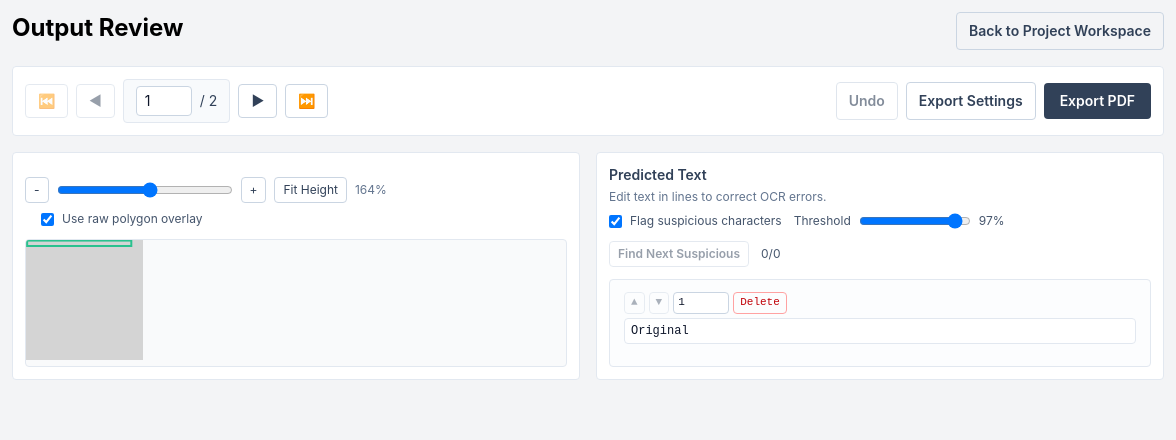
Test: review screen workflows › shows a failed correction save and prevents exporting older text
Replace the text in the text box with "Unsaved draft". click: x=880, y=331
box: [624,318,1136,344]
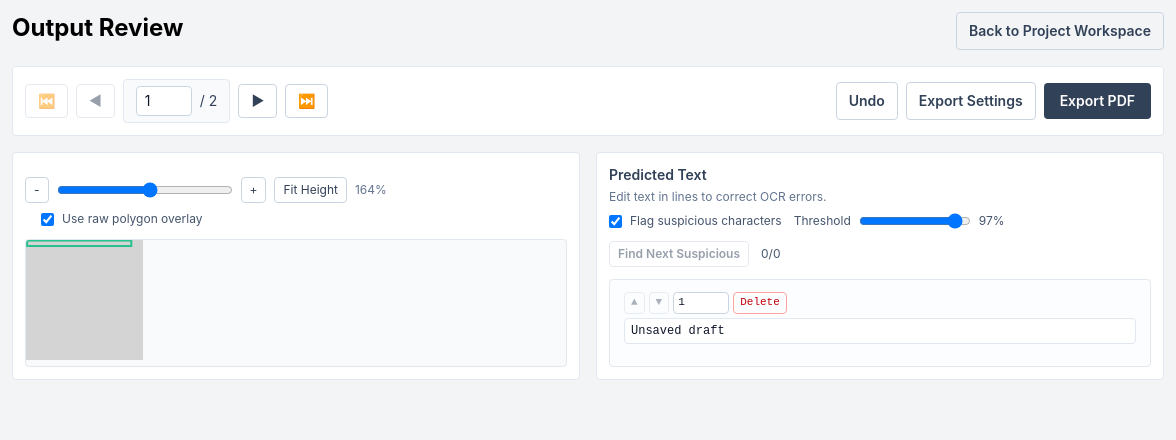
Click the button "Export PDF". click: x=1097, y=101
box: [1044,83,1151,119]
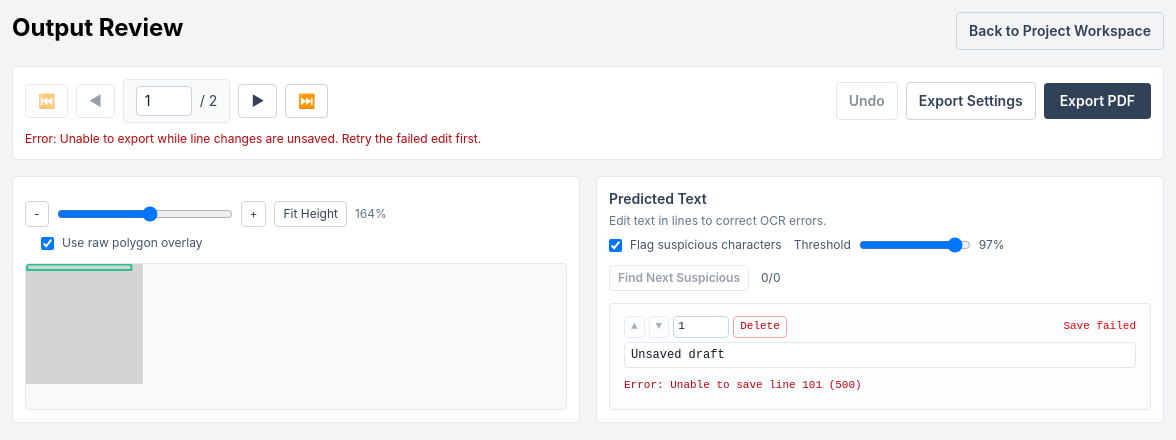
expect the text "unsaved" is shown: met, box [25,131,481,146]
